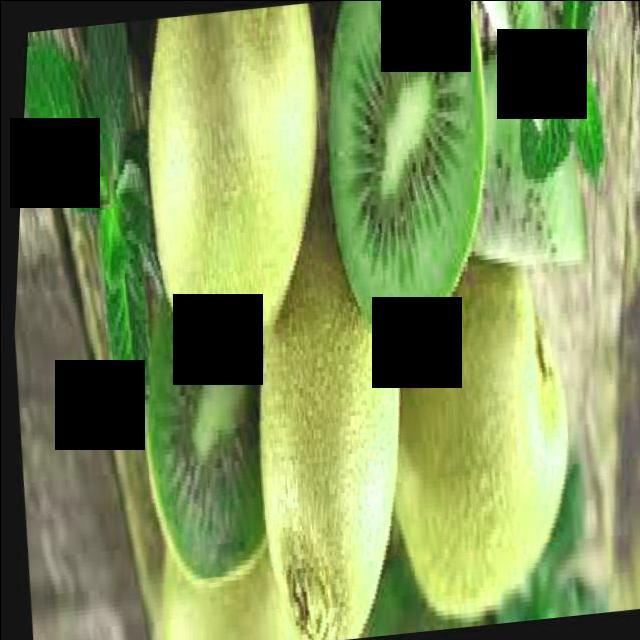kiwi: (219, 151, 440, 640), (349, 233, 599, 631), (115, 7, 353, 394)
